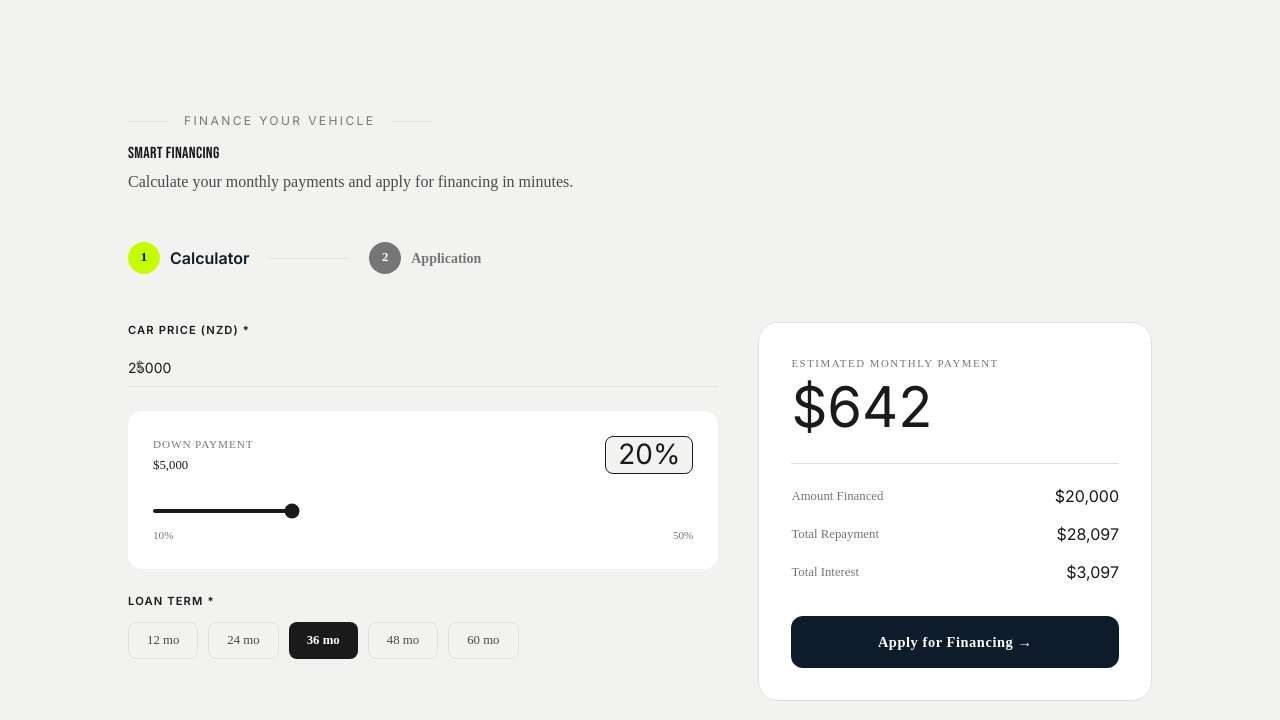
Scenario: Financing Page › Document Upload › displays upload instructions
Click the button "Apply for Financing →". click: (955, 642)
box: [791, 616, 1119, 668]
(page scrolled)
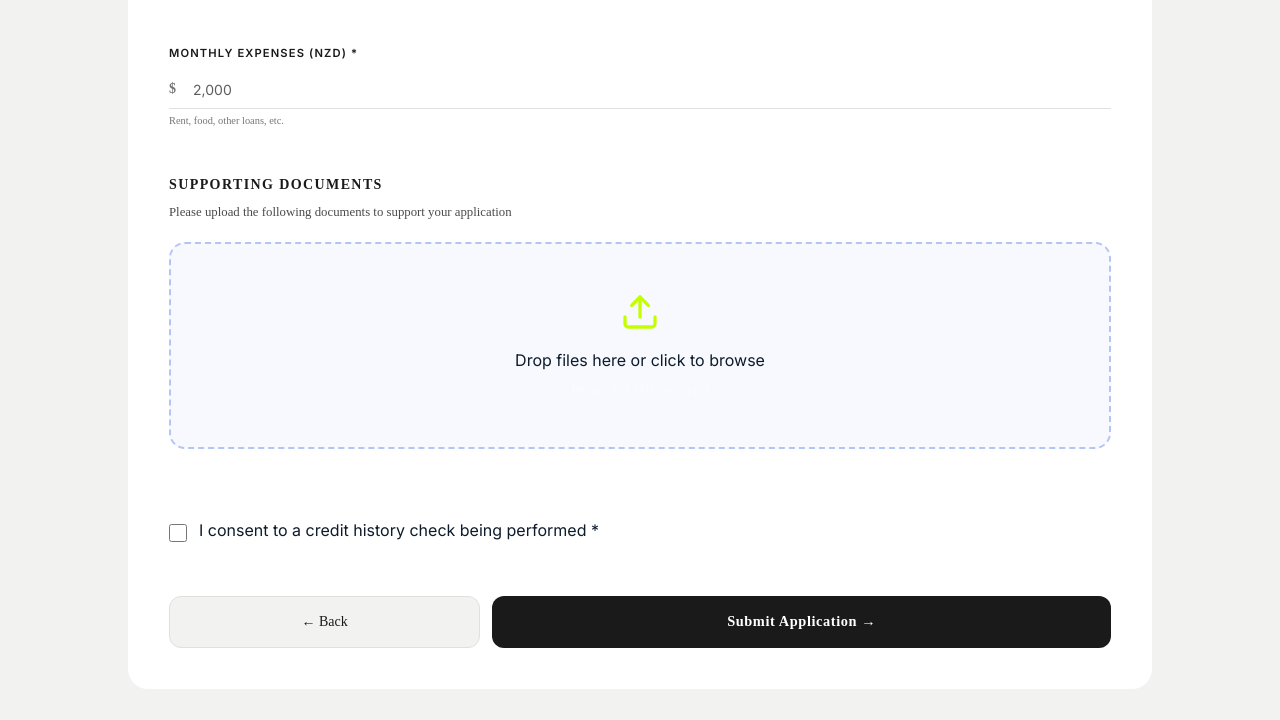
Now the text "Drop files here or click to browse" is shown, box [515, 350, 765, 370]
